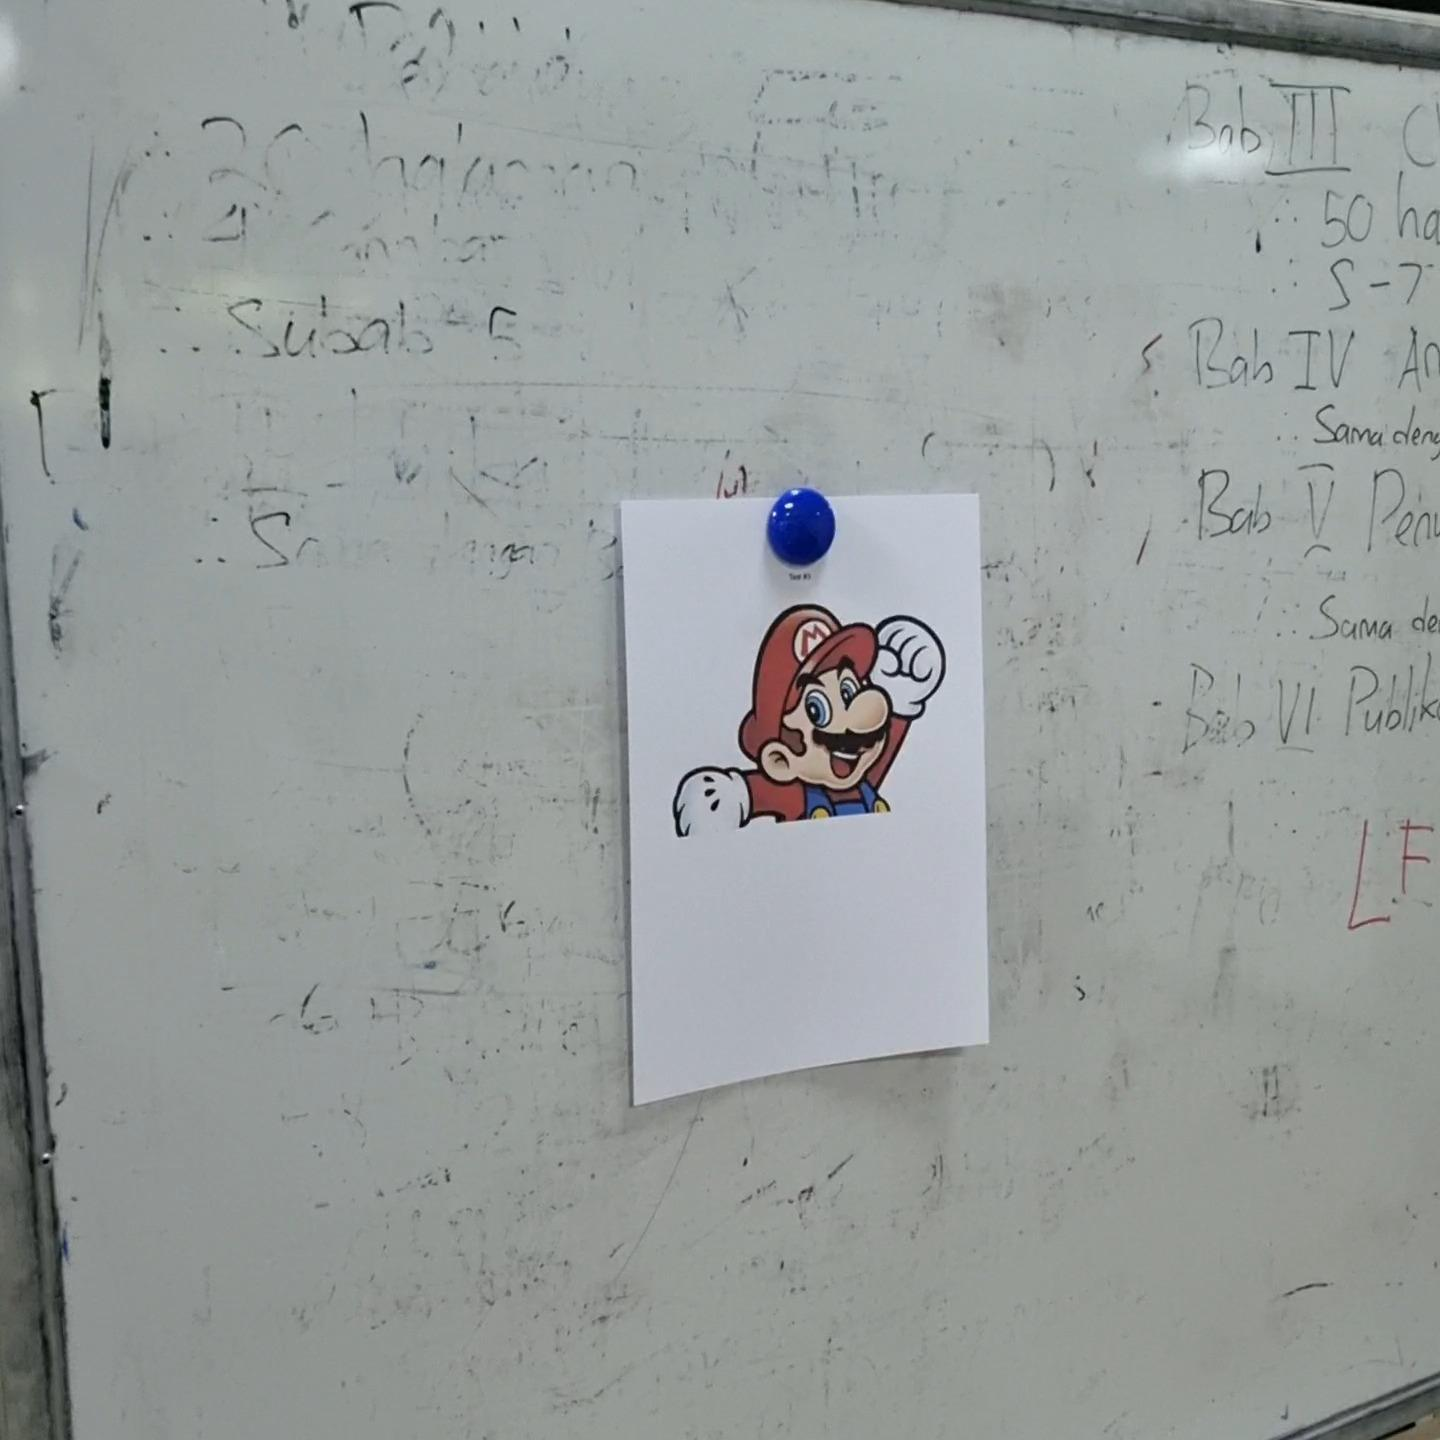mario: (667, 593, 951, 848)
